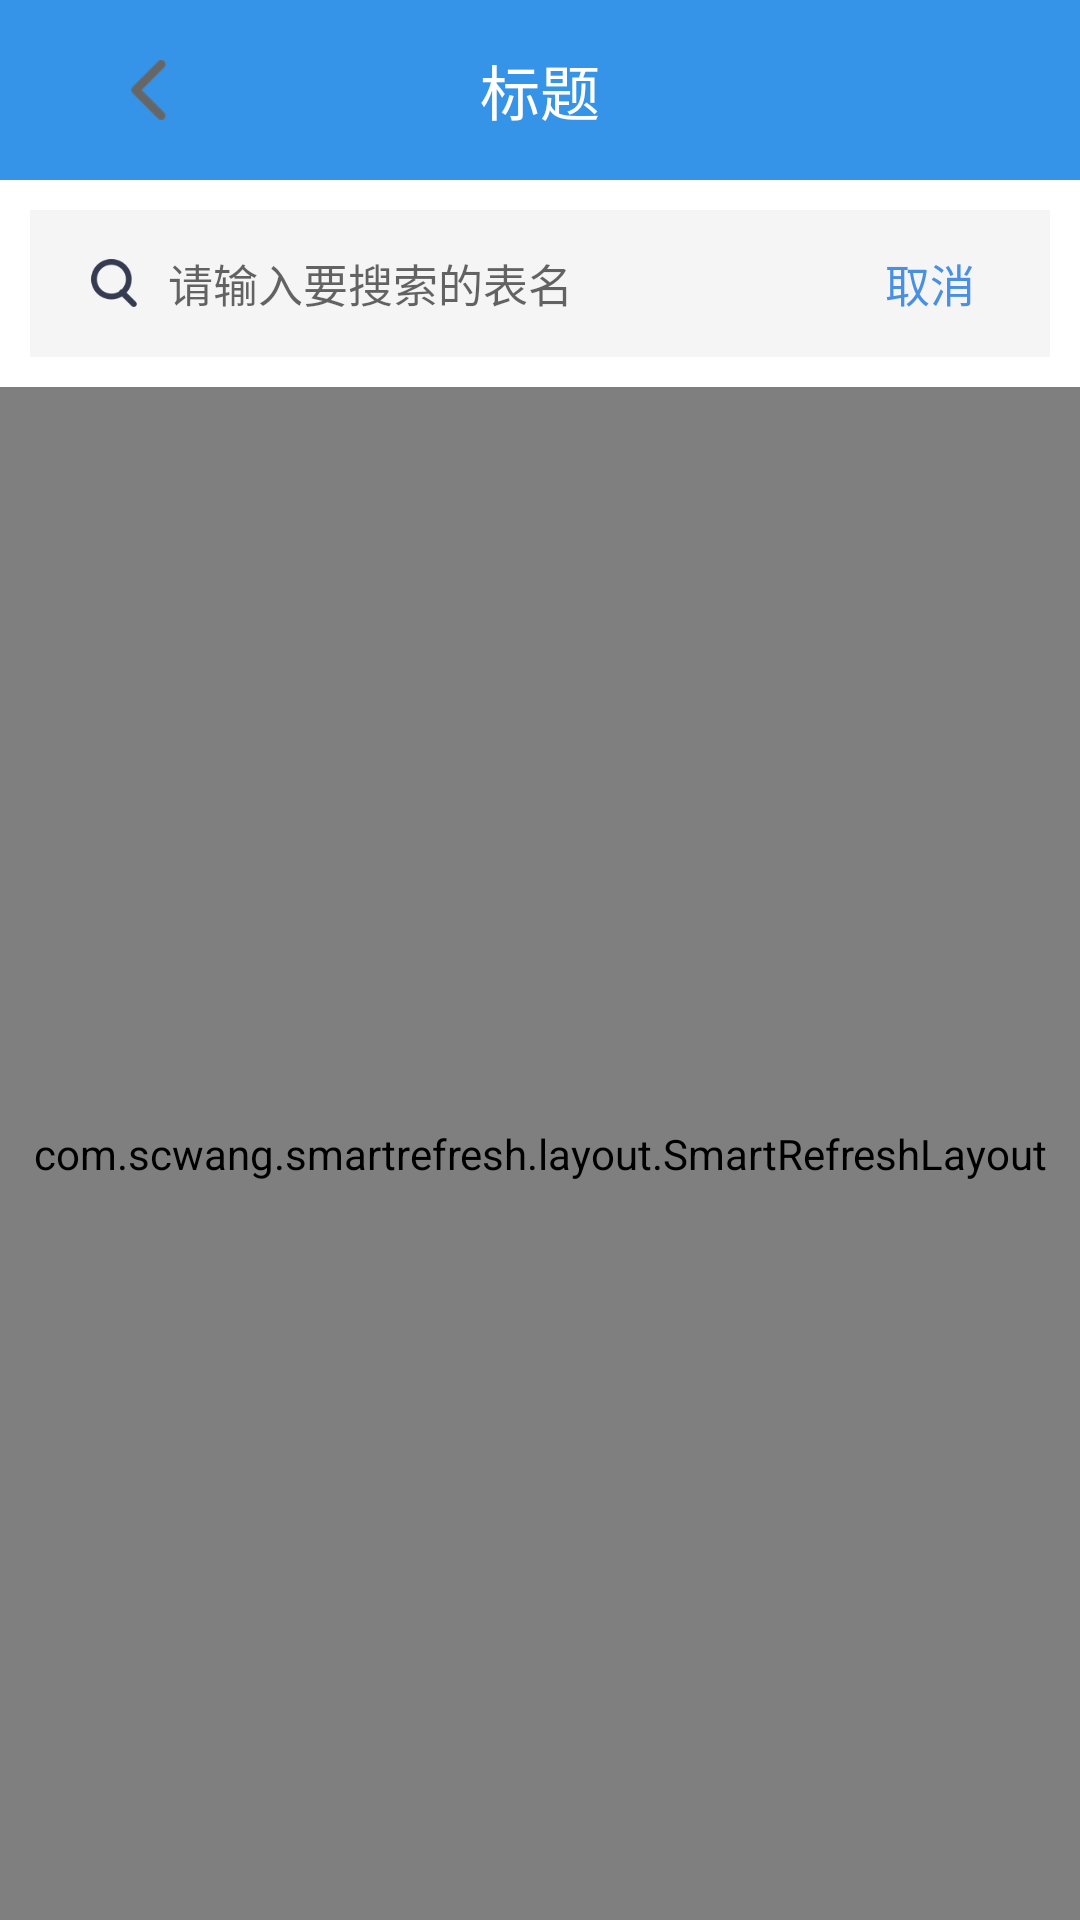

Locate icon controls on the screen. Image size 1080x1920, boxes as (x1, y1, x2, y2).
back: (131, 60, 166, 120)
search: (91, 259, 137, 307)
